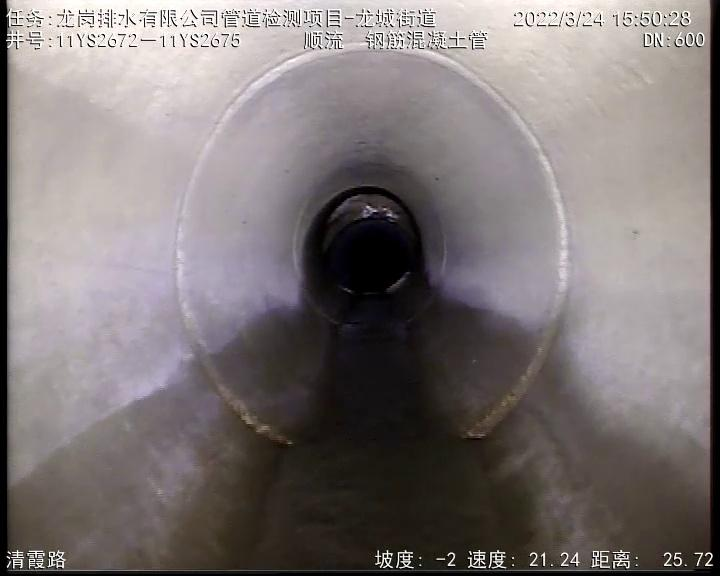CKTJ: (175, 44, 359, 444), (406, 51, 568, 439)
